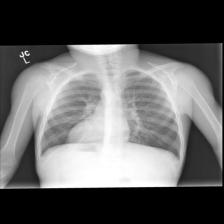normal: (38, 65, 184, 163)
